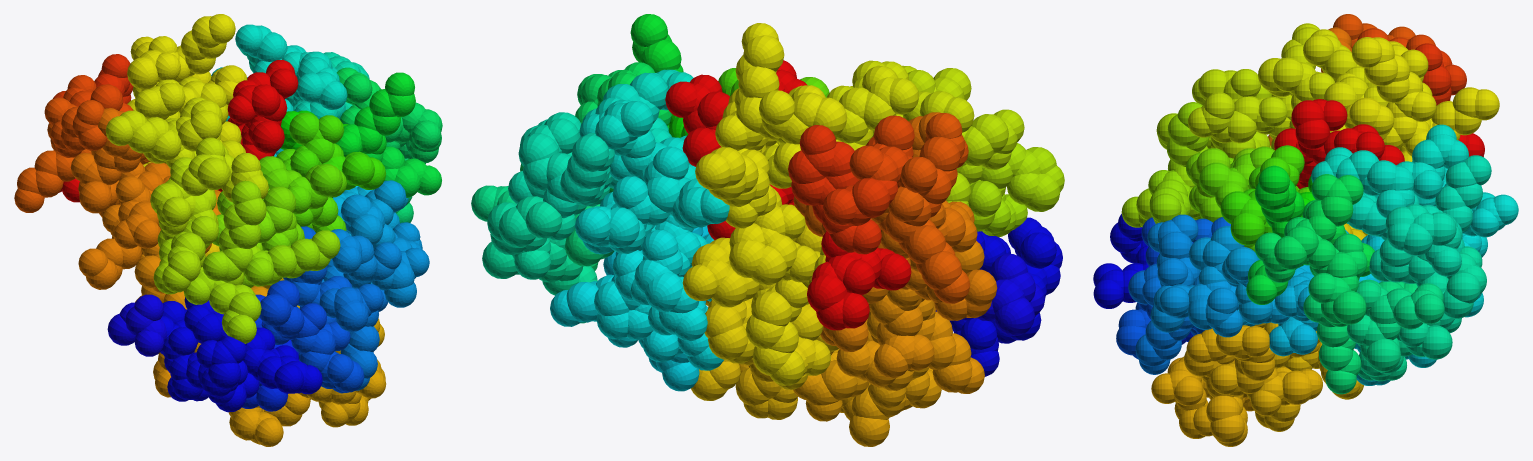
The model's file is 1mbn__spheres__rainbow.glb.
The picture shows the model from 3 angles, left to right: view 1: azimuth 30°, elevation 25°; view 2: azimuth 150°, elevation 25°; view 3: azimuth 270°, elevation 25°; orthographic projection. The views are drawn at different scales.
Parts seen in each view (by area): view 1: Renderer Node; view 2: Renderer Node; view 3: Renderer Node.
Part boxes in pixels (<box>): Renderer Node: <box>14,14,442,446</box>; Renderer Node: <box>471,14,1064,446</box>; Renderer Node: <box>1093,14,1518,446</box>.
Size of the model in its own units: 45.93 by 42.13 by 41.97.
